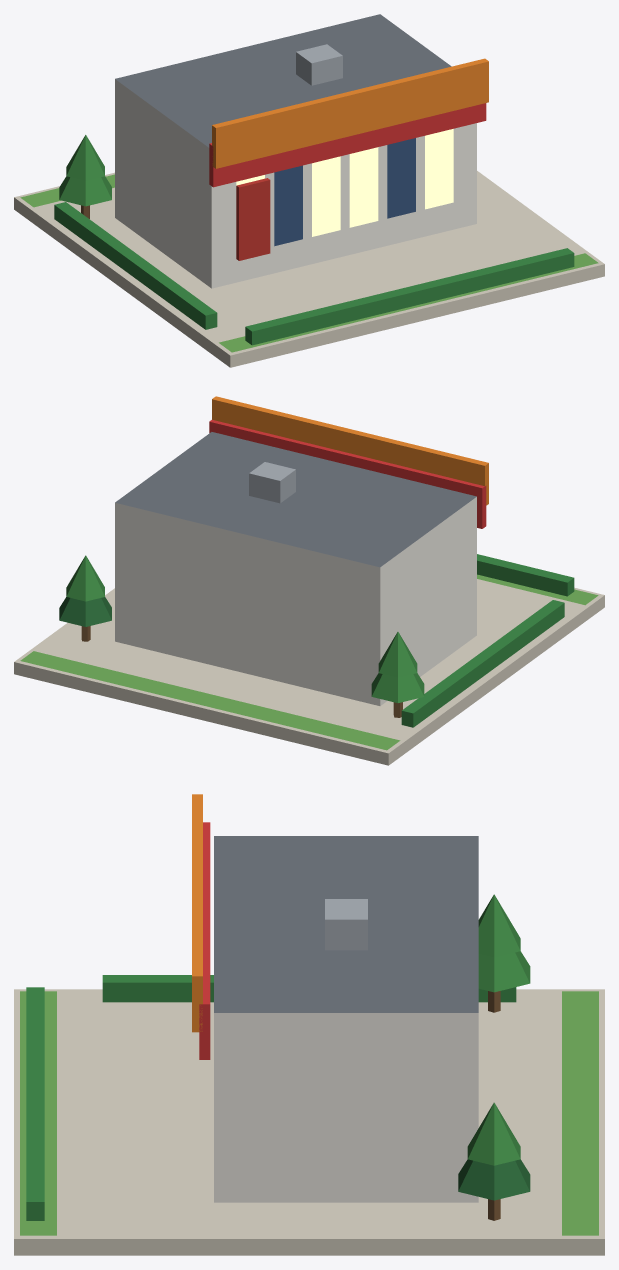
3 views of the same model, one above another, from view 1: azimuth 30°, elevation 25°; view 2: azimuth 150°, elevation 25°; view 3: azimuth 270°, elevation 25° (orthographic). The views are drawn at different scales.
Visible parts, largest first — view 1: b11; view 2: b11; view 3: b11.
Boxes of the visible parts, <box> form: b11: <box>14,14,604,367</box>; b11: <box>14,396,604,765</box>; b11: <box>14,794,604,1255</box>.
Bounding box in the file's own units: 0.96 × 0.44 × 0.96.
